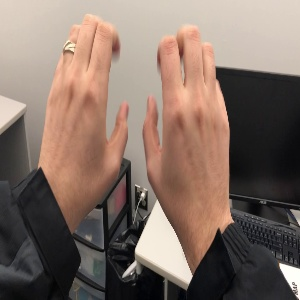hand: (144, 24, 232, 219), (41, 12, 129, 194)
